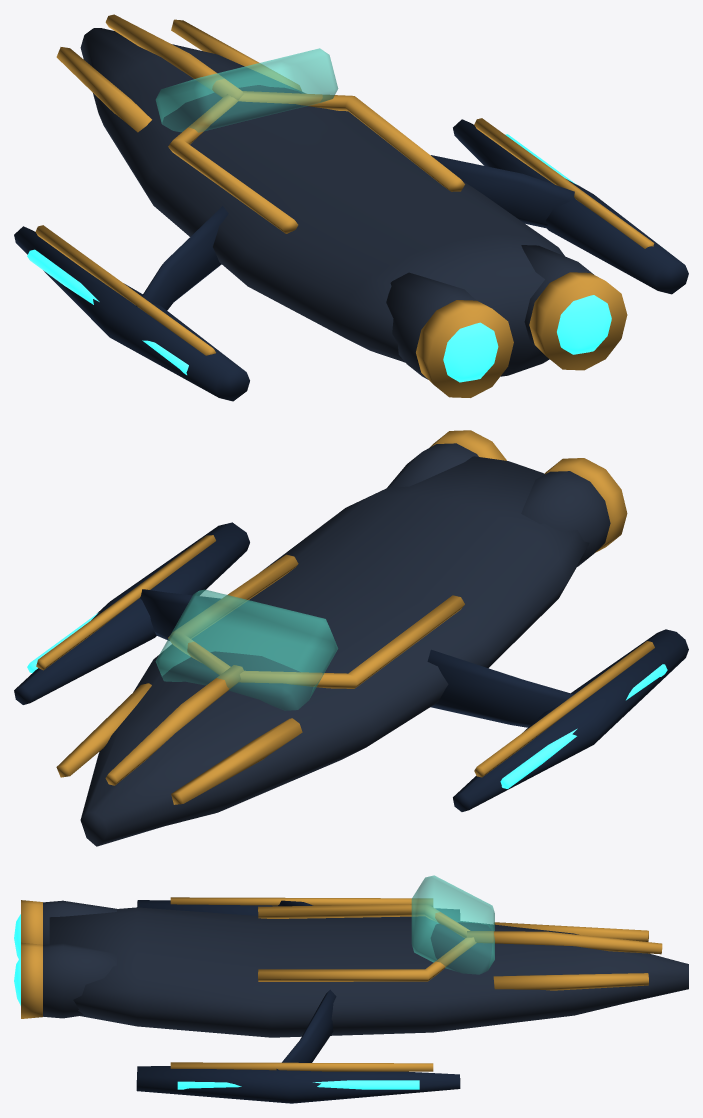
File: hydro_skimmer.glb
3 views of the same model, one above another, from view 1: azimuth 30°, elevation 25°; view 2: azimuth 150°, elevation 25°; view 3: azimuth 270°, elevation 25° (orthographic). The views are drawn at different scales.
Parts seen in each view (by area): view 1: hull, thrusterL, cockpit, thrusterR; view 2: hull, cockpit, thrusterL, thrusterR; view 3: hull, cockpit, thrusterR, thrusterL.
Part boxes in pixels (box(x1,y1,x2,y2)): hull: box(14, 14, 688, 401); thrusterL: box(386, 272, 513, 397); cockpit: box(156, 48, 338, 132); thrusterR: box(521, 245, 627, 370); hull: box(14, 456, 688, 846); cockpit: box(155, 589, 337, 710); thrusterL: box(521, 458, 627, 566); thrusterR: box(386, 430, 506, 488); hull: box(49, 897, 688, 1103); cockpit: box(411, 875, 494, 974); thrusterR: box(14, 942, 116, 1018); thrusterL: box(14, 900, 116, 958).
Size of the model in its own units: 1.31 by 0.3931 by 2.01.
